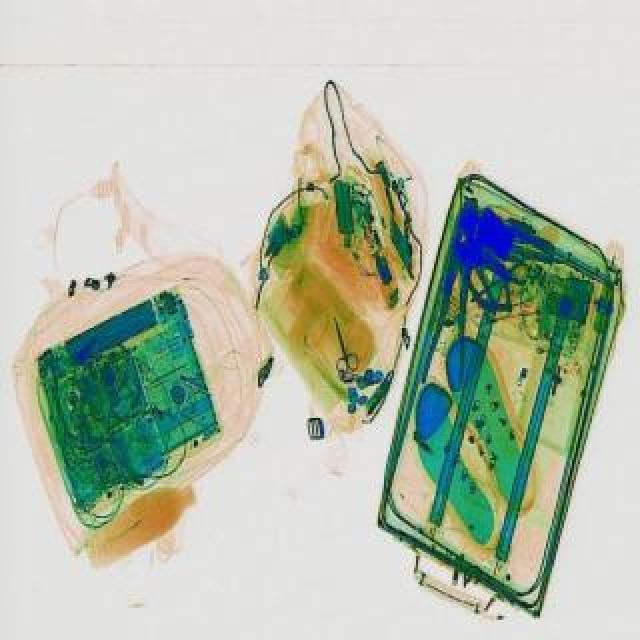pliers: (324, 310, 358, 374)
